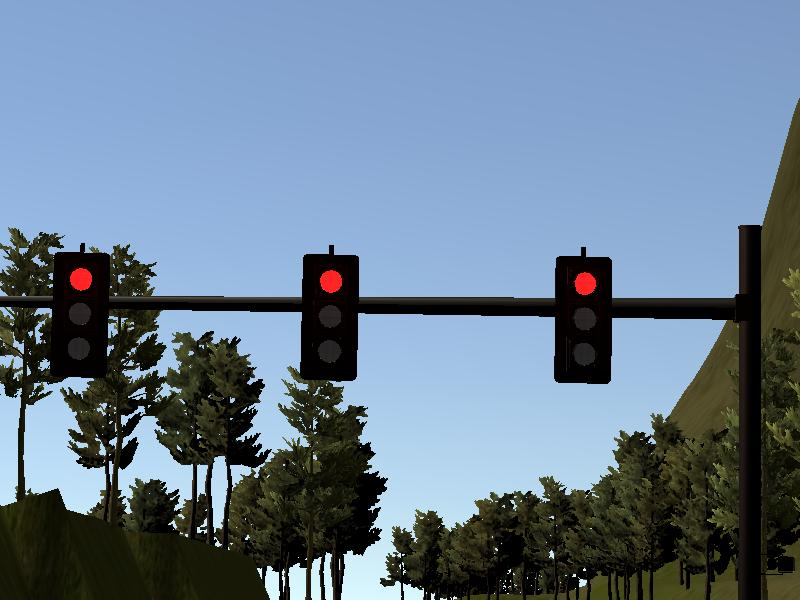red: (301, 251, 358, 381), (555, 255, 611, 383), (52, 250, 105, 373)
